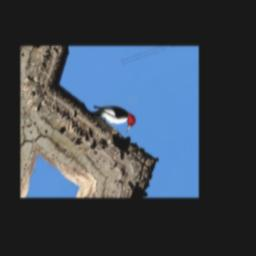Woodpecker: (83, 90, 144, 146)
